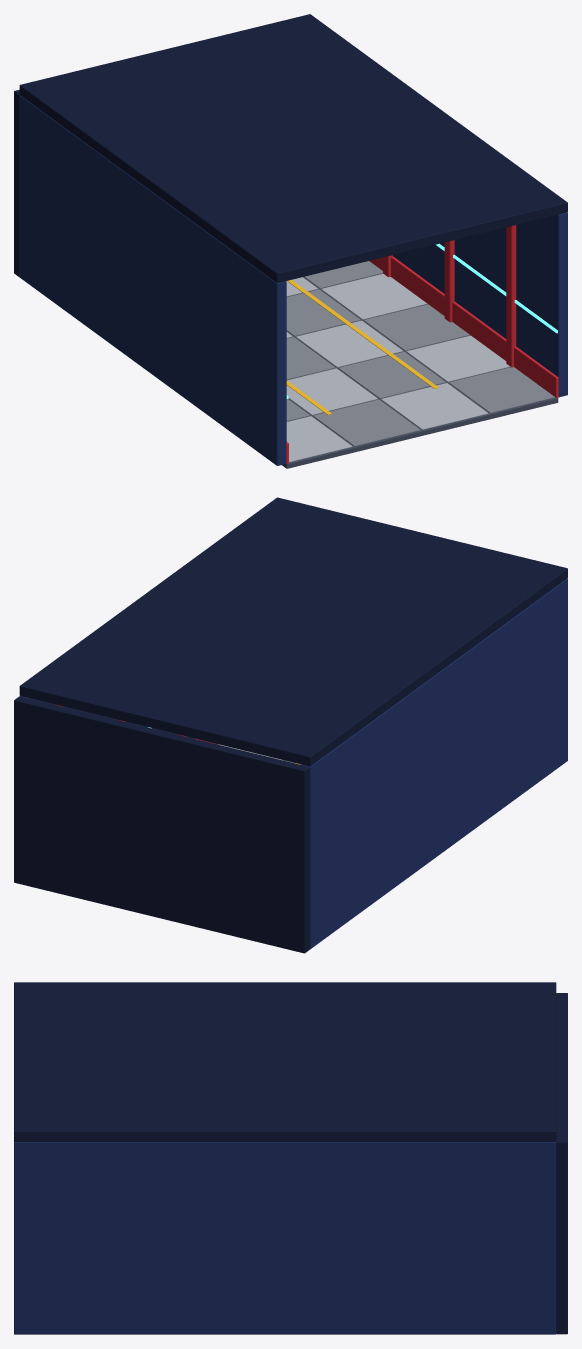
File: GarageRoom.fbx
3 views of the same model, one above another, from view 1: azimuth 30°, elevation 25°; view 2: azimuth 150°, elevation 25°; view 3: azimuth 270°, elevation 25° (orthographic). The views are drawn at different scales.
Parts seen in each view (by area): view 1: GarageRoom; view 2: GarageRoom; view 3: GarageRoom.
Part boxes in pixels (x1=…): GarageRoom: x1=14, y1=14, x2=567, y2=468; GarageRoom: x1=14, y1=497, x2=567, y2=953; GarageRoom: x1=14, y1=982, x2=567, y2=1334.
Size of the model in its own units: 30 by 19.5 by 47.
Materials: 3 (1 with a texture image).
